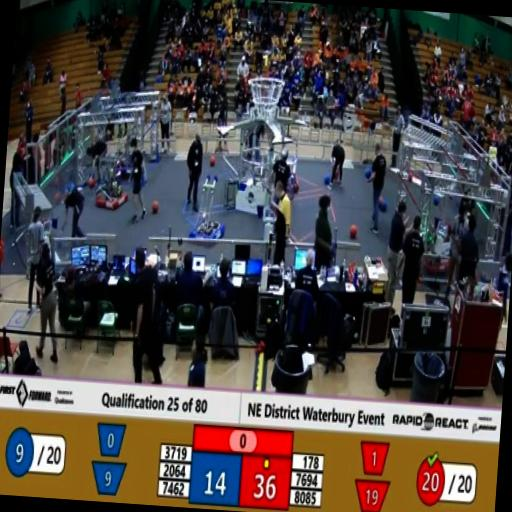robot: (184, 164, 231, 248), (422, 197, 467, 278), (110, 112, 148, 184), (266, 134, 306, 202), (91, 154, 134, 216)
